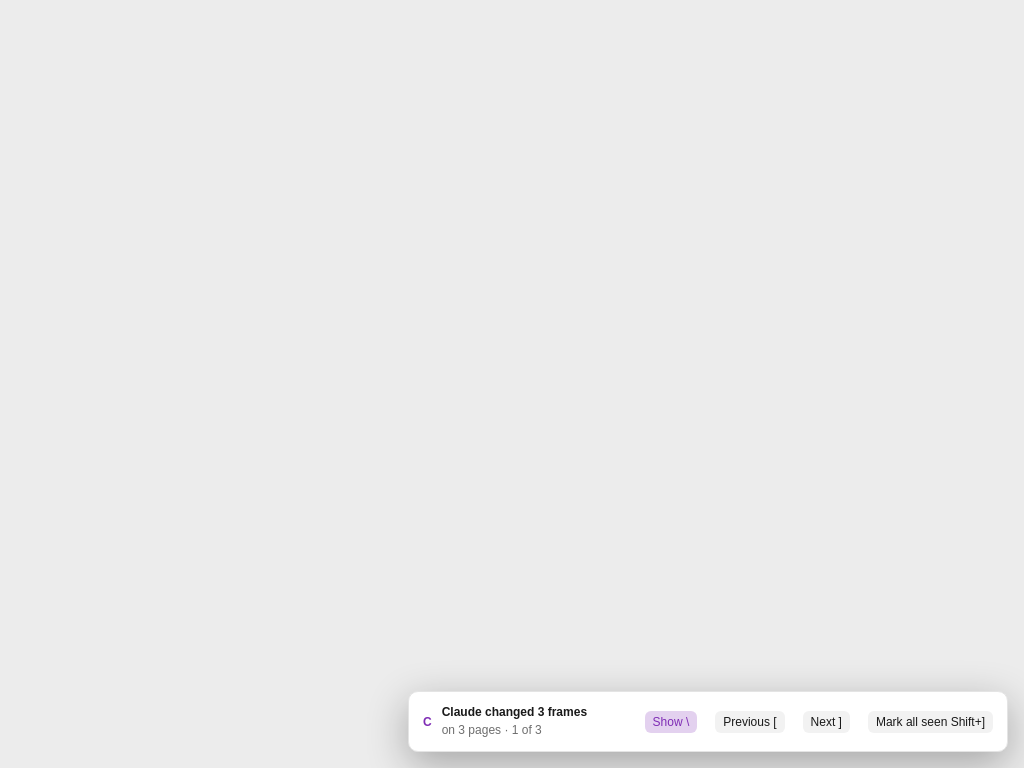
Test: ChangesToast › mark all seen › clears every page from the button and says how many it cleared
Click the button "Mark all seen Shift+]" at x=930, y=722, box left=868, top=710, right=993, bottom=732
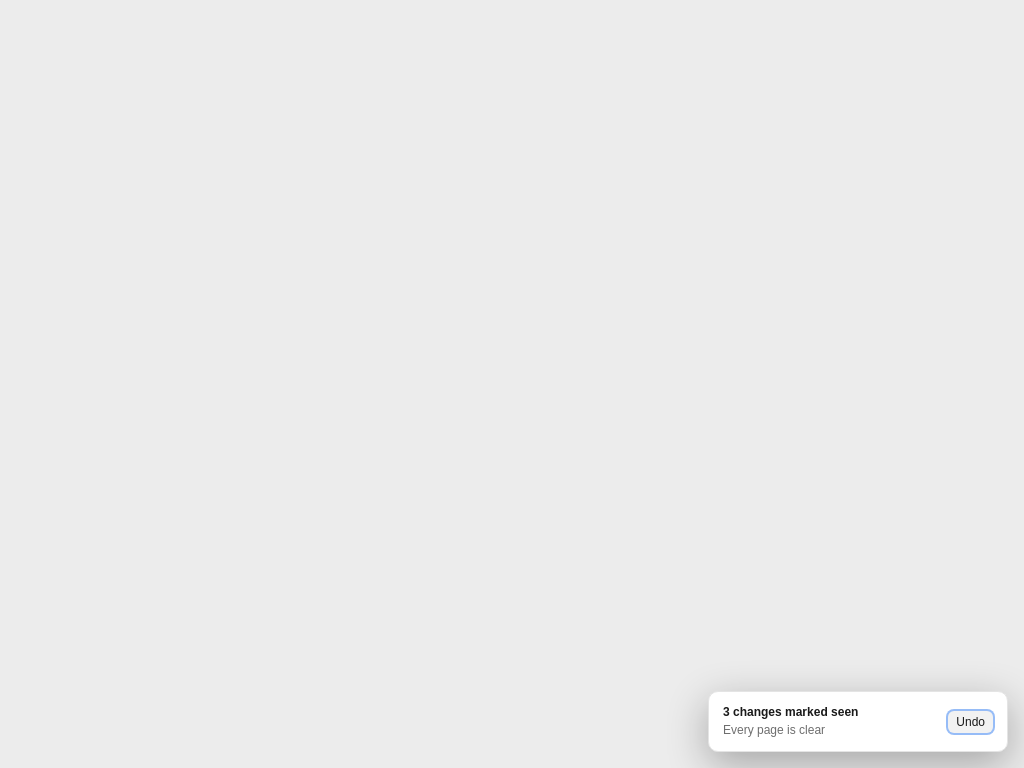
Expected: the heading "3 changes marked seen" is shown, left=723, top=705, right=858, bottom=719
Expected: the text "Every page is clear" is shown, left=723, top=723, right=825, bottom=737
